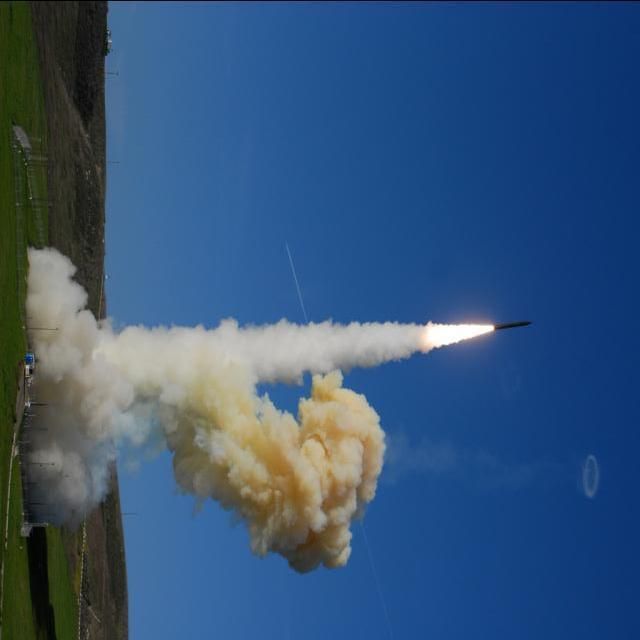missile: (492, 318, 536, 337)
